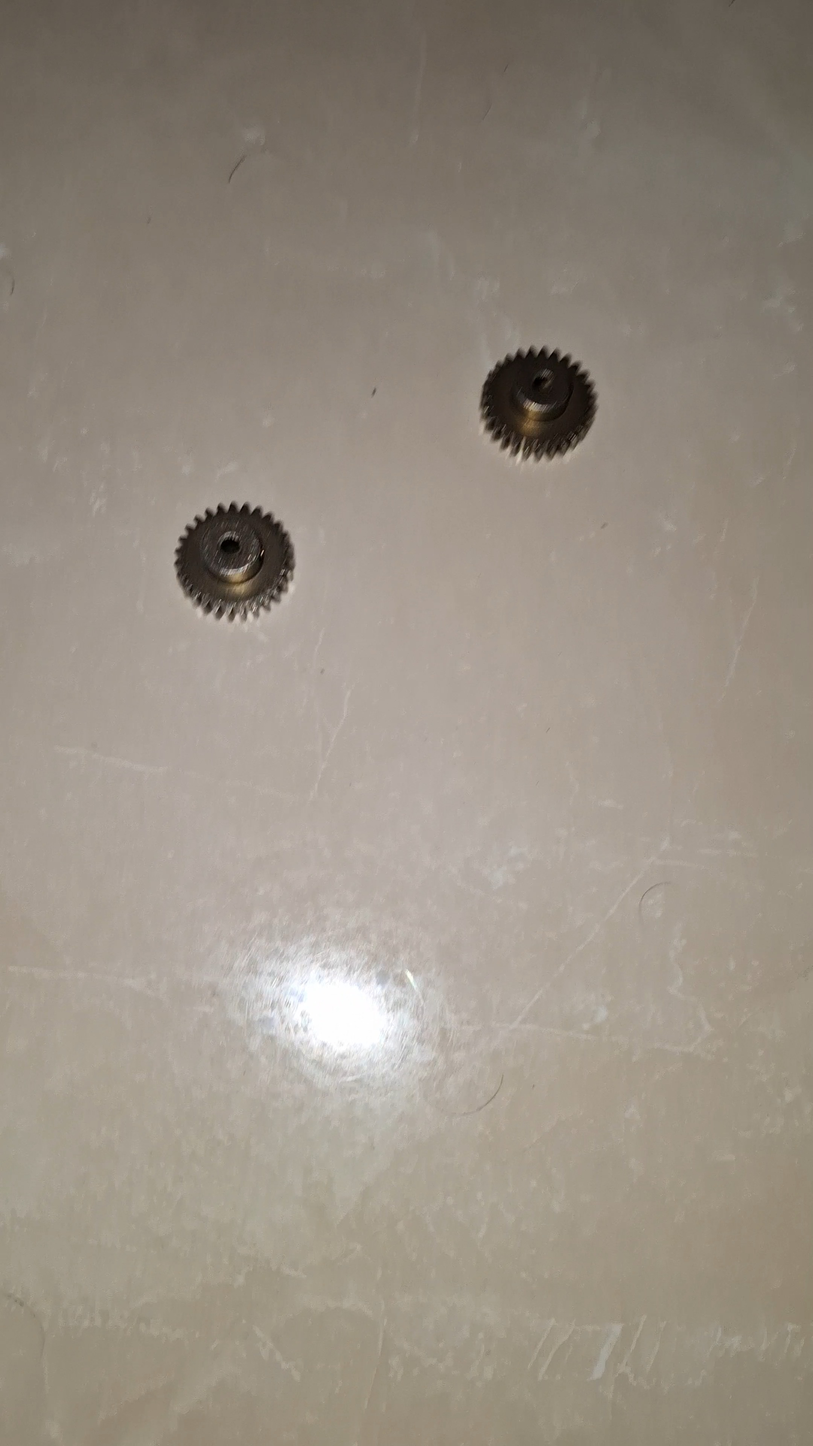spur gear: (175, 503, 294, 620), (481, 348, 596, 458)
